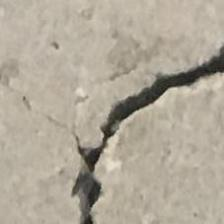Crack: (42, 37, 224, 224)
